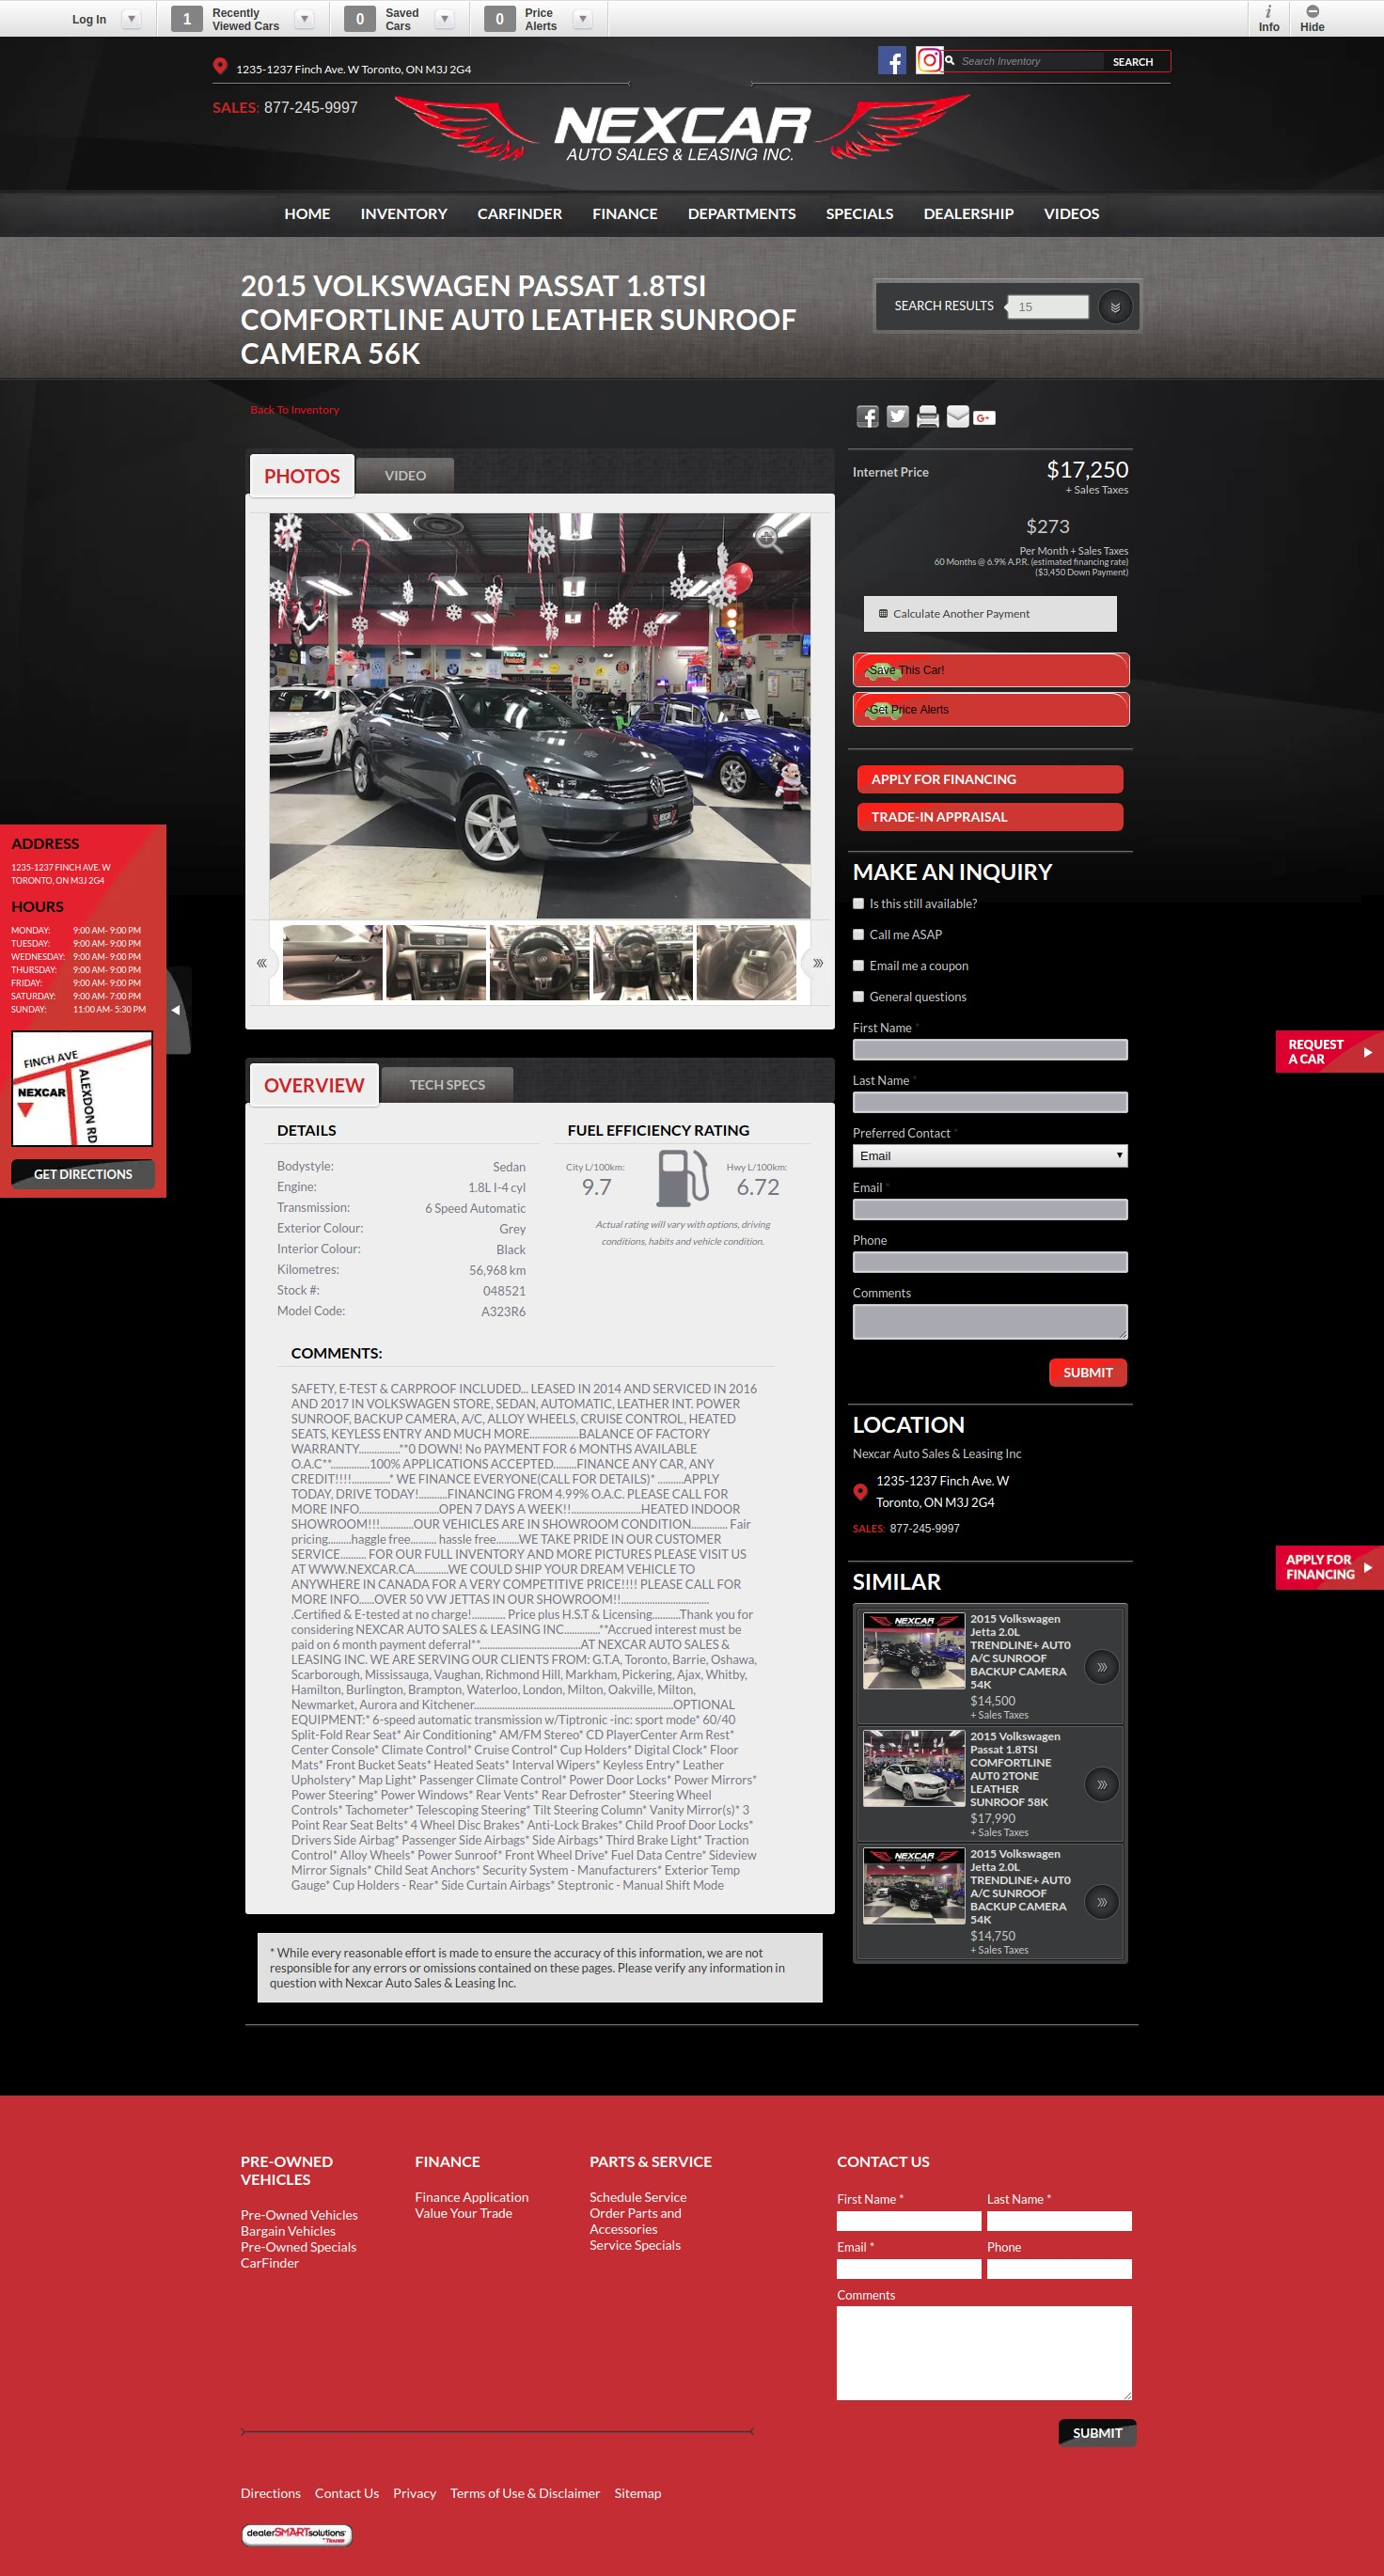car: (813, 957, 825, 969)
